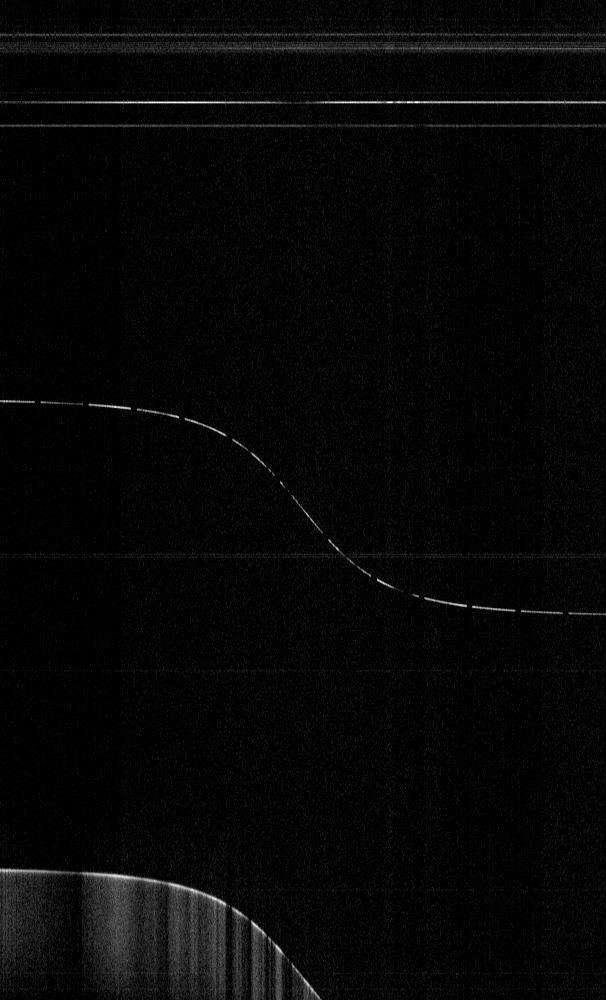signal: (0, 0, 605, 999)
